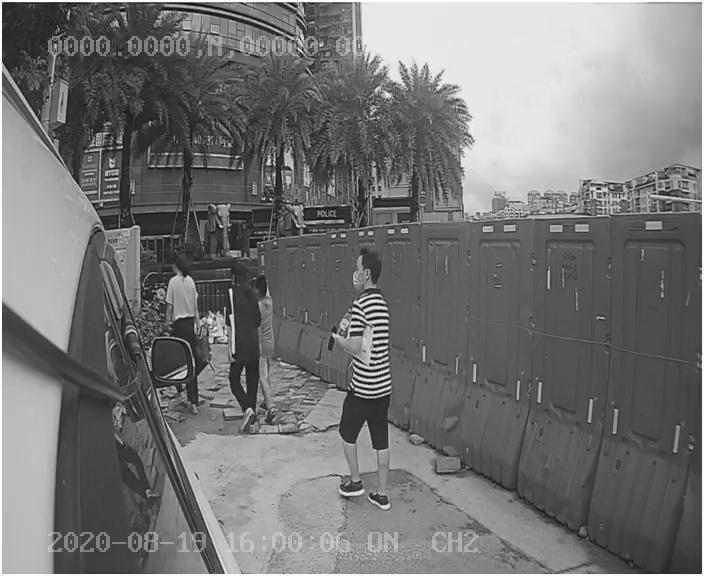person: (308, 247, 419, 515), (215, 256, 305, 442)
